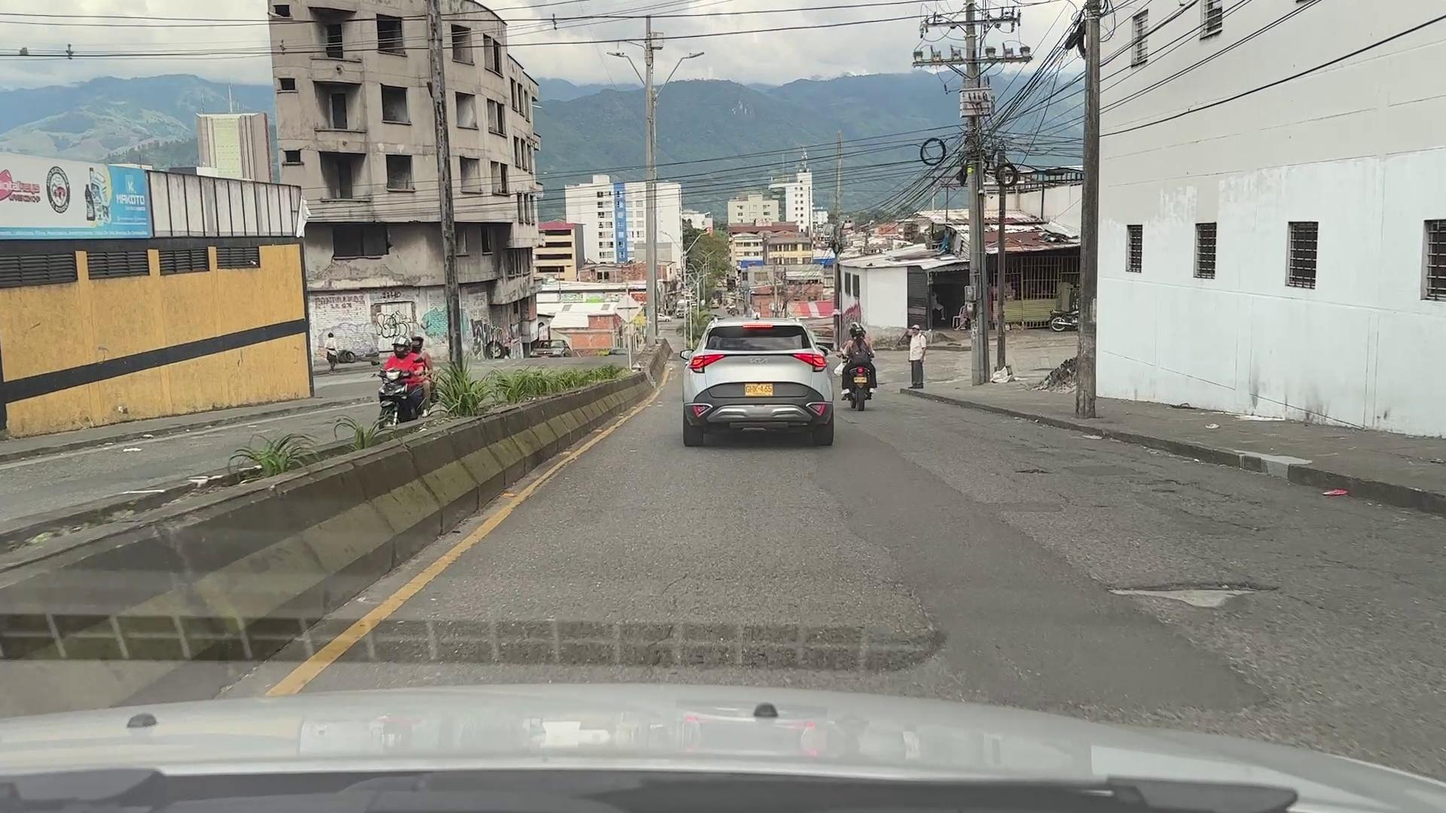bache: (1108, 581, 1277, 608), (1017, 468, 1048, 473), (1152, 490, 1174, 492)
grieta: (1135, 479, 1201, 490), (1205, 488, 1240, 503)
